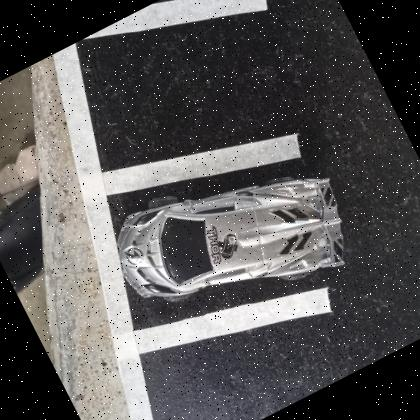Car: (117, 179, 347, 300)
